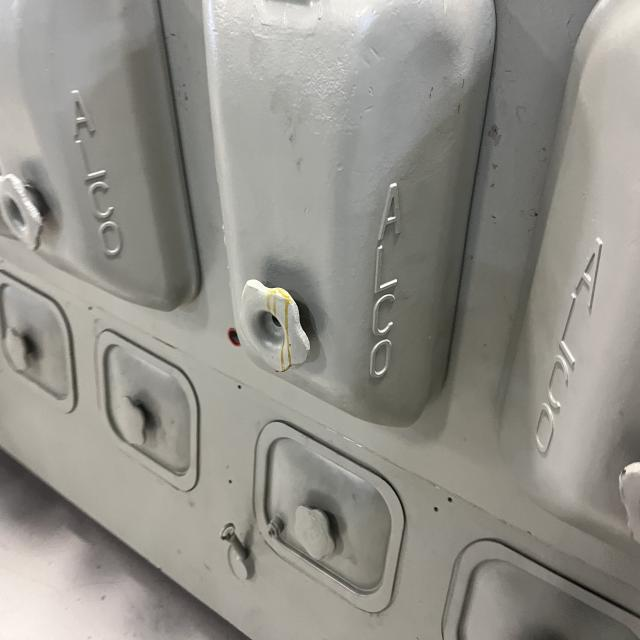Oil Leak: (265, 288, 293, 372)
